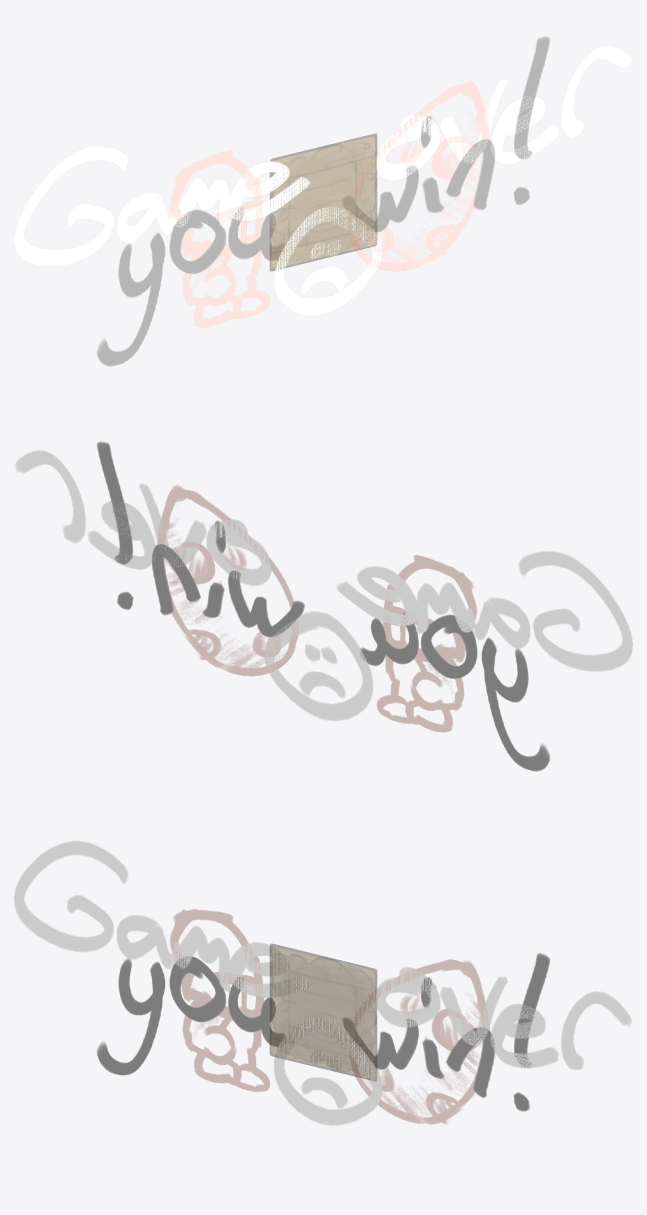
The model's file is models.glb.
3 renders of one model, top to bottom at view 1: azimuth 30°, elevation 25°; view 2: azimuth 150°, elevation 25°; view 3: azimuth 330°, elevation 25°, orthographic.
Parts seen in each view (by area): view 1: game_over, barbut, you_win, block_wood, block_stone; view 2: game_over, barbut, you_win; view 3: game_over, barbut, you_win, block_wood, block_stone.
Part boxes in pixels (bbox=[...]): game_over: bbox=[14, 45, 632, 316]; barbut: bbox=[169, 79, 489, 327]; you_win: bbox=[97, 36, 549, 366]; block_wood: bbox=[270, 133, 376, 270]; block_stone: bbox=[270, 134, 376, 270]; game_over: bbox=[14, 450, 632, 721]; barbut: bbox=[157, 484, 477, 732]; you_win: bbox=[97, 441, 549, 771]; game_over: bbox=[14, 840, 632, 1125]; barbut: bbox=[169, 909, 489, 1124]; you_win: bbox=[97, 953, 549, 1111]; block_wood: bbox=[270, 944, 376, 1080]; block_stone: bbox=[270, 944, 376, 1080].
Size of the model in its own units: 5.74 by 2 by 8.74e-08.
6 materials, 6 textured.
